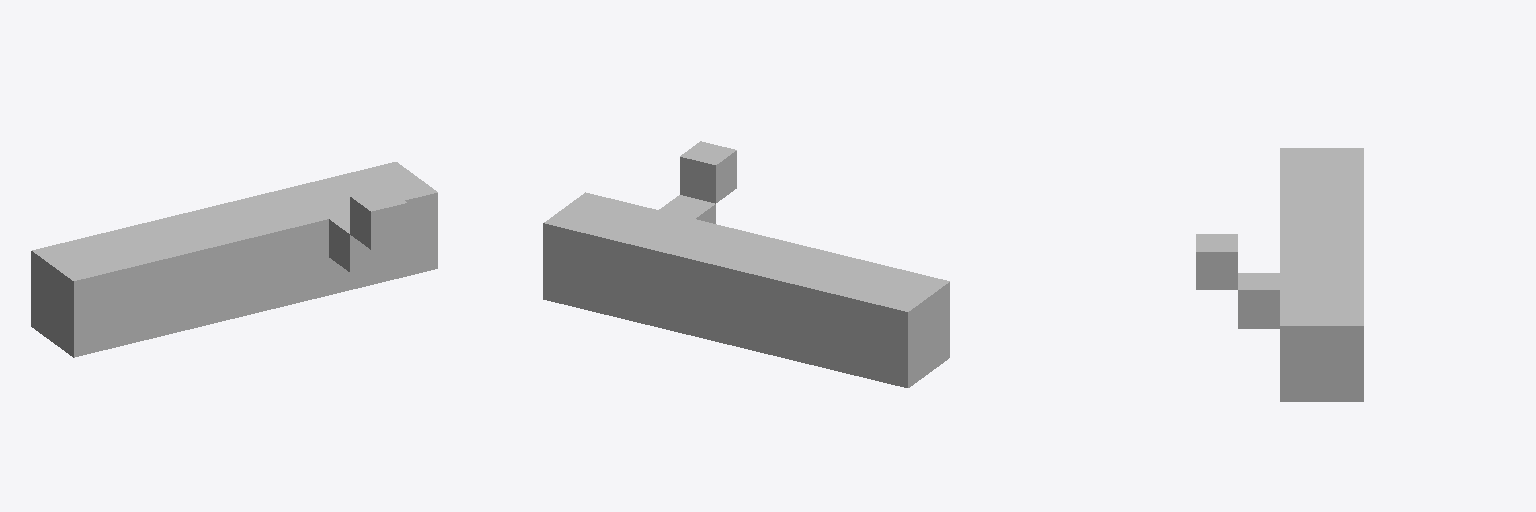
File: Tronco 2.obj
The picture shows the model from 3 angles: view 1: azimuth 30°, elevation 25°; view 2: azimuth 150°, elevation 25°; view 3: azimuth 270°, elevation 25°; orthographic projection.
Parts seen in each view (by area): view 1: object 1; view 2: object 1; view 3: object 1.
Part boxes in pixels (x1,y1,x2,y2): object 1: (31, 162, 437, 357); object 1: (543, 141, 949, 387); object 1: (1196, 148, 1363, 401).
Size of the model in its own units: 1 by 0.3 by 0.4.